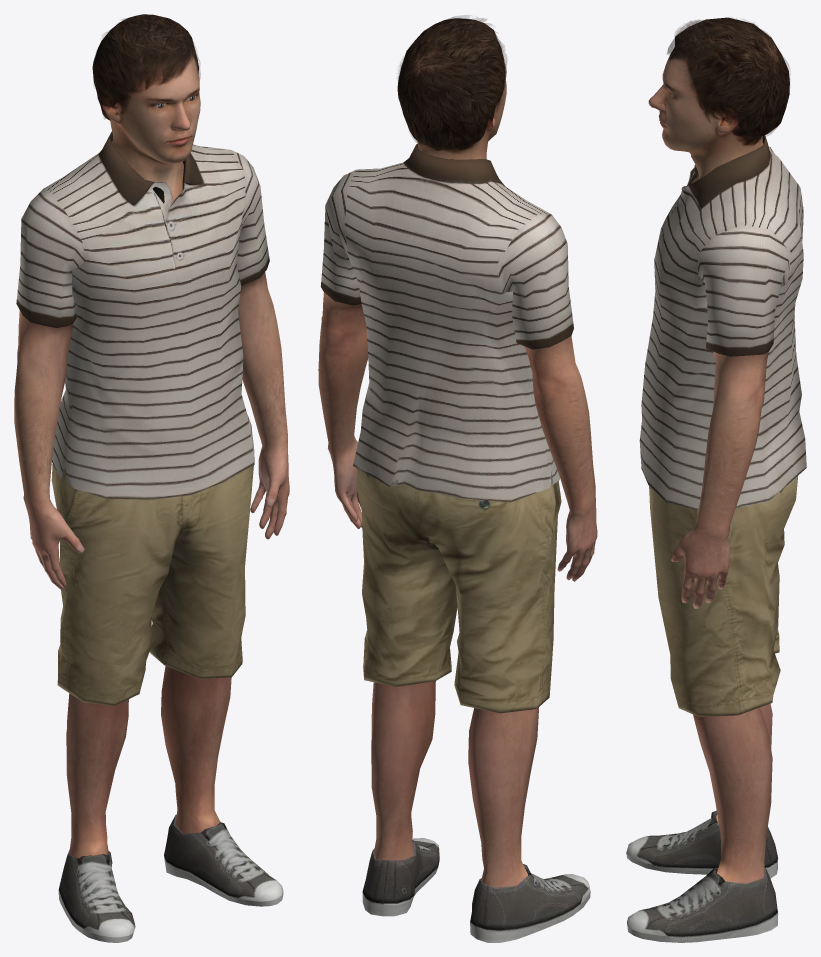
File: male-adult-01.glb
The picture shows the model from 3 angles, left to right: view 1: azimuth 30°, elevation 25°; view 2: azimuth 150°, elevation 25°; view 3: azimuth 270°, elevation 25°; orthographic projection.
Visible parts, largest first — view 1: m002_hipoly_81_bones_opacity; view 2: m002_hipoly_81_bones_opacity; view 3: m002_hipoly_81_bones_opacity.
Part boxes in pixels (left/top/right/bottom): m002_hipoly_81_bones_opacity: left=14, top=14, right=289, bottom=942; m002_hipoly_81_bones_opacity: left=318, top=15, right=597, bottom=942; m002_hipoly_81_bones_opacity: left=626, top=17, right=806, bottom=942.
Bounding box in the file's own units: 0.532 × 1.7 × 0.3167.
Materials: 3 (3 with a texture image).
